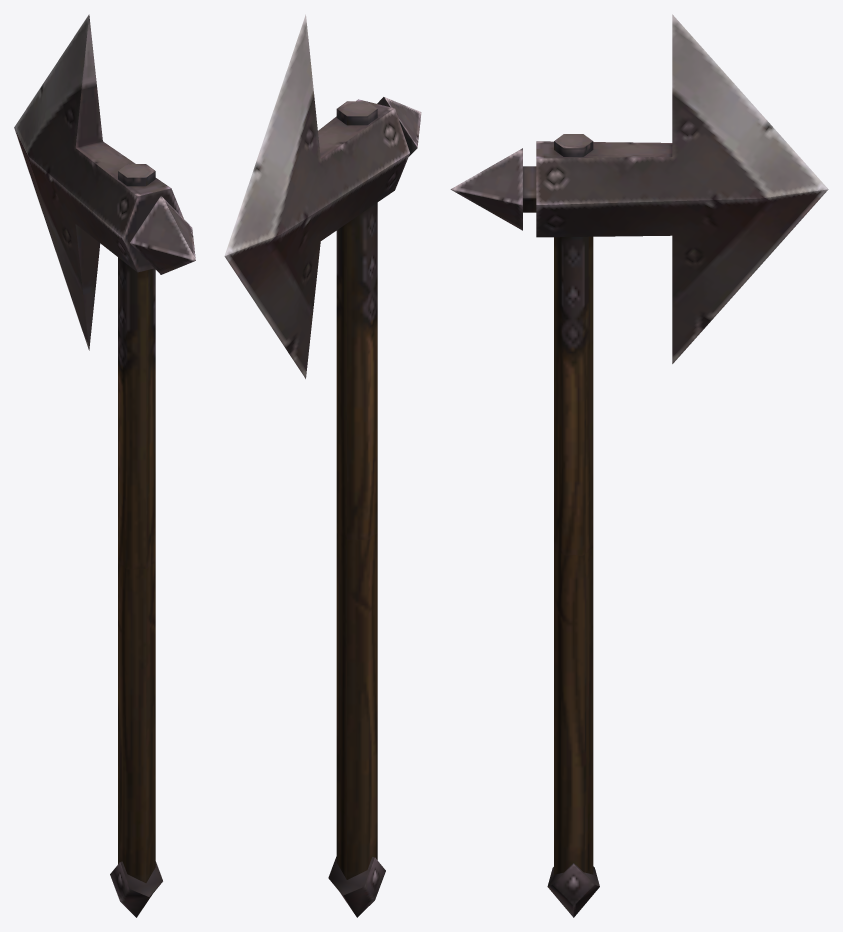
Rendered from greataxe15_16b30812.glb.
3 views of the same model, side by side, from view 1: azimuth 30°, elevation 25°; view 2: azimuth 150°, elevation 25°; view 3: azimuth 270°, elevation 25° (orthographic). The views are drawn at different scales.
Bounding box in the file's own units: 0.1557 × 2.07 × 0.785.
1 material, 1 textured.
